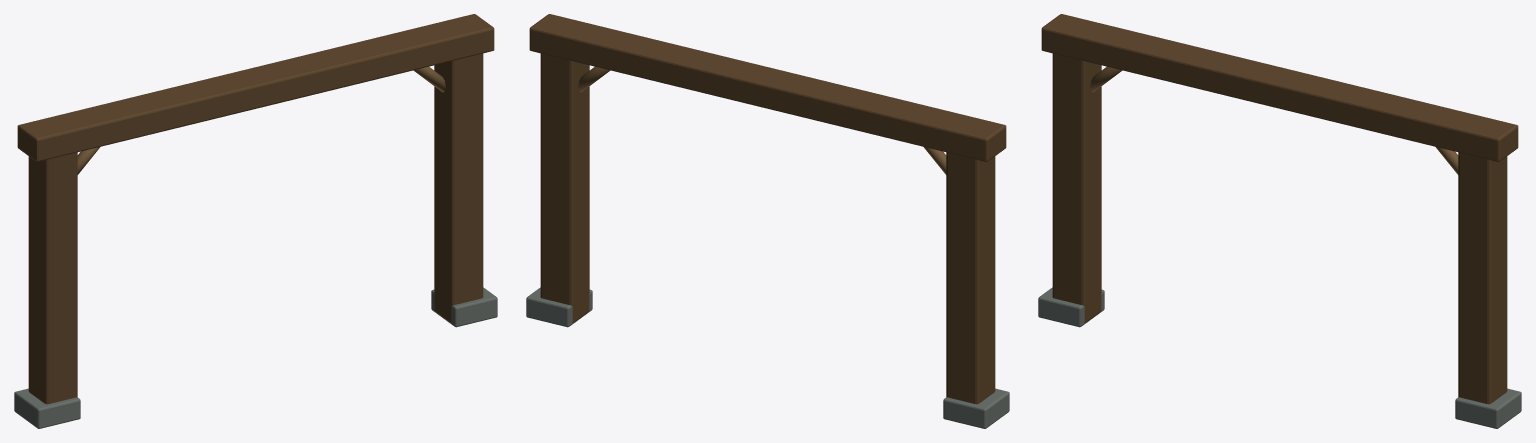
The model's file is gate.glb.
3 views of the same model, side by side, from view 1: azimuth 30°, elevation 25°; view 2: azimuth 150°, elevation 25°; view 3: azimuth 330°, elevation 25° (orthographic).
Parts seen in each view (by area): view 1: MV_gate; view 2: MV_gate; view 3: MV_gate.
Boxes of the visible parts, box(x1,y1,x2,y2) form: MV_gate: box(14, 14, 497, 428); MV_gate: box(526, 14, 1009, 428); MV_gate: box(1038, 14, 1521, 428).
Size of the model in its own units: 5.7 by 3.42 by 0.5331.
